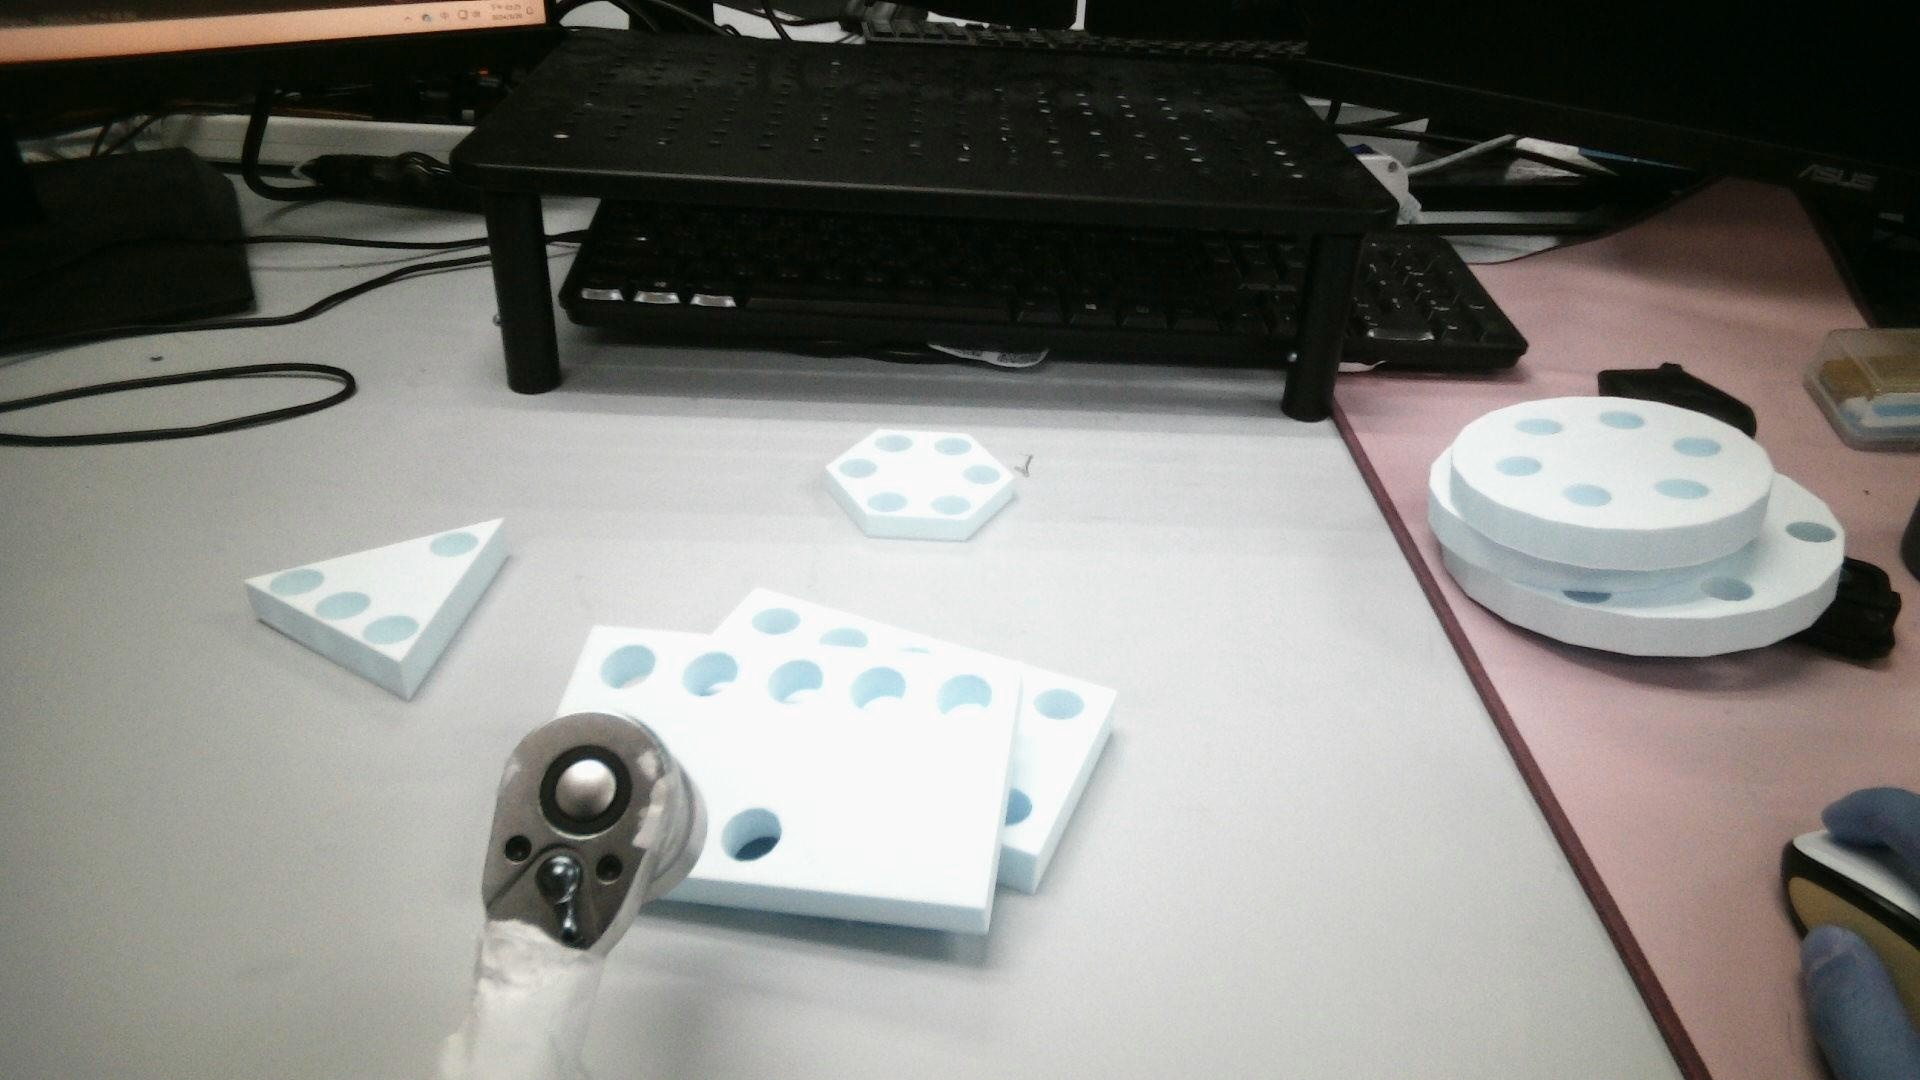hole: (721, 804, 783, 862), (927, 673, 998, 723), (676, 647, 742, 702), (851, 663, 910, 720), (761, 658, 824, 709), (1034, 684, 1092, 727), (601, 647, 655, 687), (1656, 473, 1713, 509), (1511, 409, 1568, 443), (316, 585, 369, 621), (1788, 514, 1834, 553), (1557, 477, 1617, 506), (1671, 431, 1722, 463), (269, 564, 319, 596), (364, 611, 410, 645), (1600, 407, 1644, 439), (746, 608, 799, 632), (1698, 583, 1753, 605), (1494, 452, 1538, 477), (840, 458, 881, 483), (934, 433, 975, 456), (430, 535, 472, 555), (967, 465, 1004, 487), (931, 495, 968, 516), (874, 436, 916, 454), (866, 491, 899, 512)
obj: (534, 568, 1149, 986), (1418, 385, 1849, 666), (237, 509, 516, 719), (823, 419, 1010, 549)
